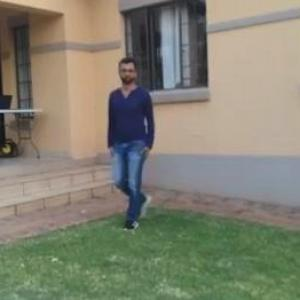follow: (115, 65, 167, 222)
